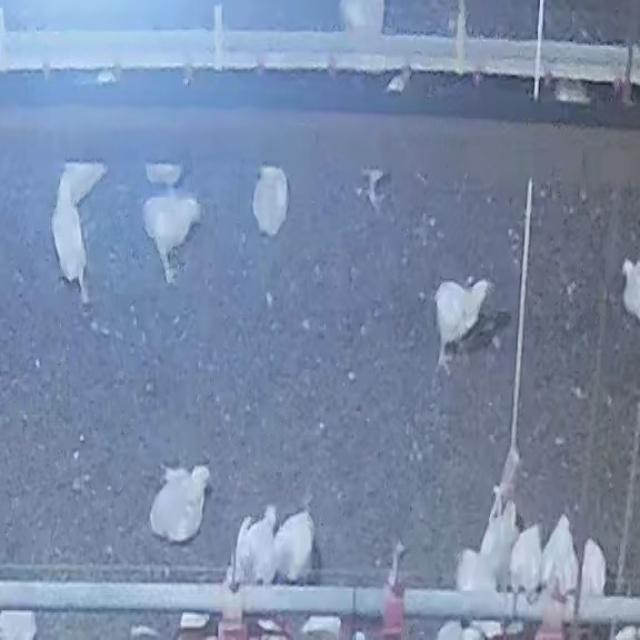chicken: (141, 192, 200, 284), (435, 275, 492, 362), (149, 462, 207, 544), (455, 548, 503, 640), (231, 506, 278, 593), (478, 497, 519, 589), (55, 180, 86, 301), (539, 513, 579, 603), (276, 509, 316, 588), (509, 520, 544, 599), (252, 165, 288, 237), (579, 537, 607, 603)
